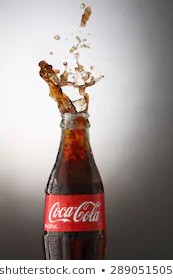coke-glass-bottle: (39, 109, 113, 260)
